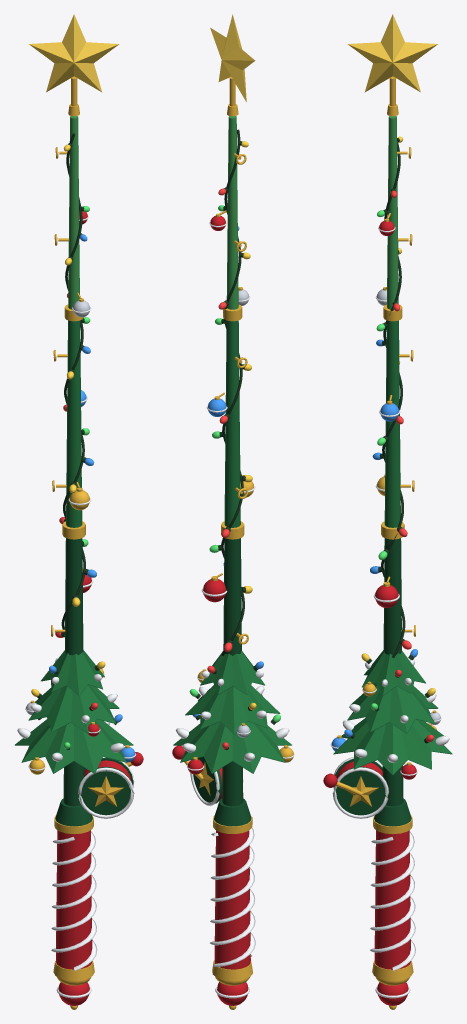
The model's file is XmasTreeRod.glb.
3 renders of one model, left to right at view 1: azimuth 90°, elevation 25°; view 2: azimuth 210°, elevation 25°; view 3: azimuth 270°, elevation 25°, orthographic.
Parts seen in each view (by area): view 1: XmasTreeRod__Pine, XmasTreeRod__PineDark, XmasTreeRod__Red, XmasTreeRod__Snow, XmasTreeRod__Gold, XmasTreeRod__Star, XmasTreeRod__PineLight, XmasTreeRod__Wire, XmasTreeRod__BulbBlue, XmasTreeRod__BulbYellow; view 2: XmasTreeRod__Pine, XmasTreeRod__Red, XmasTreeRod__PineDark, XmasTreeRod__Snow, XmasTreeRod__Gold, XmasTreeRod__PineLight, XmasTreeRod__Star, XmasTreeRod__Wire, XmasTreeRod__BulbRed, XmasTreeRod__BulbBlue, XmasTreeRod__BulbGreen; view 3: XmasTreeRod__Pine, XmasTreeRod__Red, XmasTreeRod__PineDark, XmasTreeRod__Snow, XmasTreeRod__Gold, XmasTreeRod__Star, XmasTreeRod__PineLight, XmasTreeRod__Wire, XmasTreeRod__BulbBlue, XmasTreeRod__BulbRed.
Boxes of the visible parts, x1,y1,x2,y2 form: XmasTreeRod__Pine: [15, 320, 133, 773]; XmasTreeRod__PineDark: [15, 538, 133, 826]; XmasTreeRod__Red: [55, 211, 143, 1005]; XmasTreeRod__Snow: [17, 215, 136, 998]; XmasTreeRod__Gold: [29, 76, 132, 1009]; XmasTreeRod__Star: [29, 14, 119, 92]; XmasTreeRod__PineLight: [68, 116, 79, 309]; XmasTreeRod__Wire: [37, 133, 117, 750]; XmasTreeRod__BulbBlue: [49, 234, 135, 762]; XmasTreeRod__BulbYellow: [31, 144, 105, 696]; XmasTreeRod__Pine: [173, 320, 291, 773]; XmasTreeRod__Red: [172, 215, 262, 1005]; XmasTreeRod__PineDark: [173, 538, 291, 826]; XmasTreeRod__Snow: [175, 221, 294, 998]; XmasTreeRod__Gold: [181, 77, 293, 1009]; XmasTreeRod__PineLight: [226, 116, 238, 309]; XmasTreeRod__Star: [210, 14, 255, 101]; XmasTreeRod__Wire: [195, 129, 275, 750]; XmasTreeRod__BulbRed: [207, 188, 232, 749]; XmasTreeRod__BulbBlue: [192, 226, 263, 717]; XmasTreeRod__BulbGreen: [189, 205, 280, 722]; XmasTreeRod__Pine: [333, 320, 452, 774]; XmasTreeRod__Red: [323, 220, 416, 1005]; XmasTreeRod__PineDark: [333, 538, 452, 826]; XmasTreeRod__Snow: [330, 226, 449, 998]; XmasTreeRod__Gold: [335, 76, 437, 1009]; XmasTreeRod__Star: [347, 14, 437, 92]; XmasTreeRod__PineLight: [387, 116, 398, 309]; XmasTreeRod__Wire: [350, 138, 429, 743]; XmasTreeRod__BulbBlue: [331, 339, 417, 751]; XmasTreeRod__BulbRed: [391, 190, 433, 742].
Size of the model in its own units: 0.7388 by 6.88 by 0.8092.
